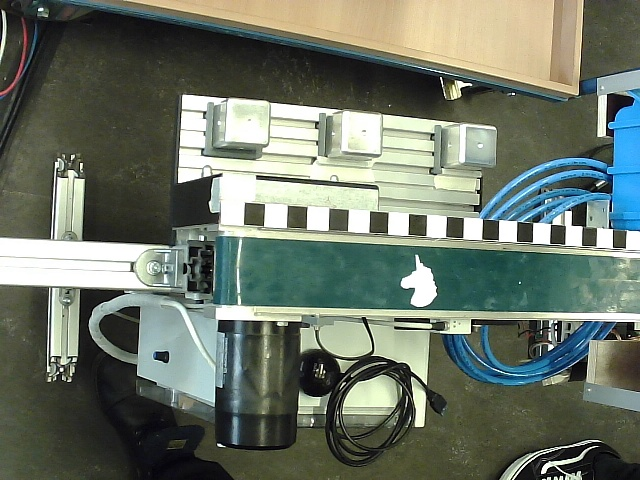unicorn: (400, 254, 439, 307)
